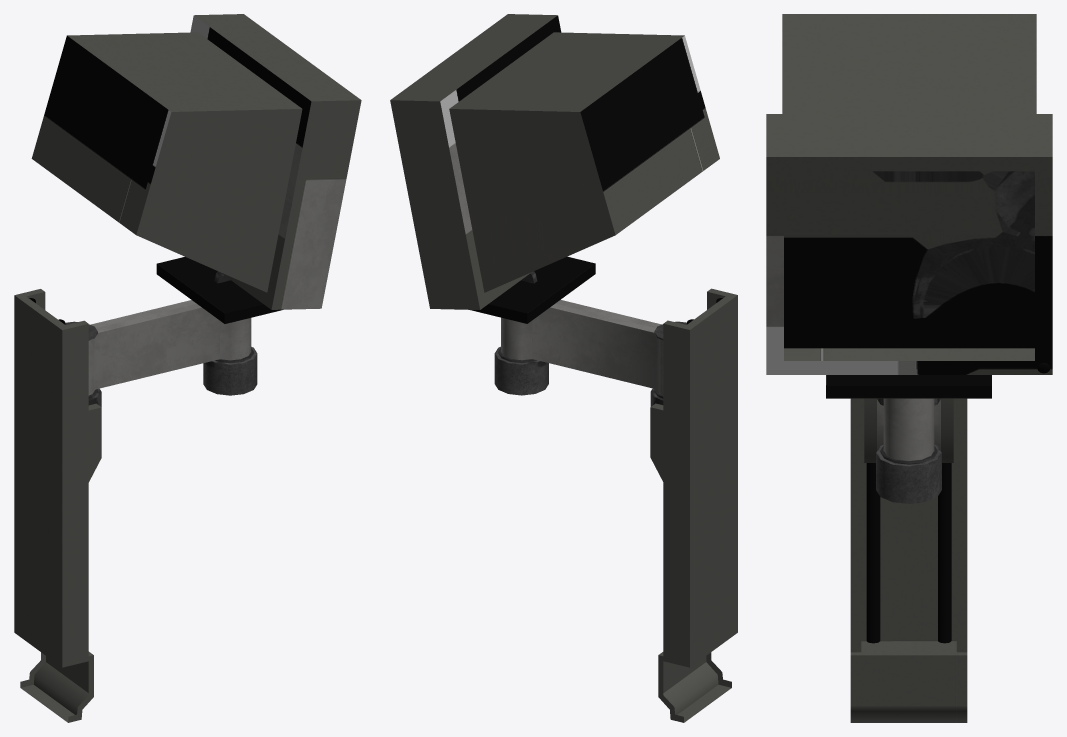
File: monitor arm.fbx
The picture shows the model from 3 angles, left to right: view 1: azimuth 30°, elevation 25°; view 2: azimuth 150°, elevation 25°; view 3: azimuth 270°, elevation 25°; orthographic projection. The views are drawn at different scales.
Parts seen in each view (by area): view 1: Tv-material, TvSystm-material; view 2: Tv-material, TvSystm-material; view 3: Tv-material, TvSystm-material.
Part boxes in pixels (x1,y1,x2,y2): Tv-material: (31,14,361,309); TvSystm-material: (14,257,283,722); Tv-material: (390,14,719,309); TvSystm-material: (470,256,737,722); Tv-material: (766,14,1052,374); TvSystm-material: (826,375,991,722).
Bounding box in the file's own units: 8.16 × 18.08 × 6.29.
Materials: 2 (2 with a texture image).
